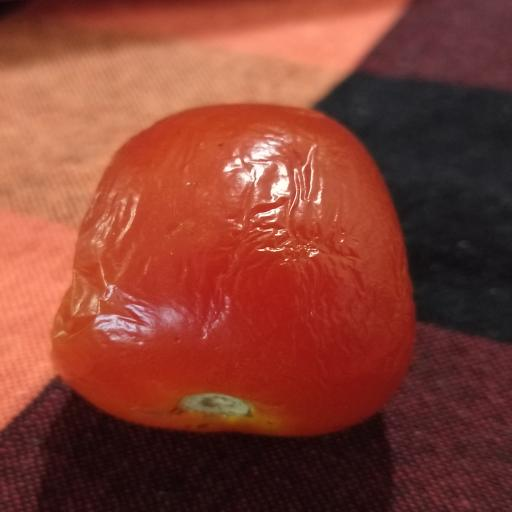spoiled: (53, 104, 414, 435)
